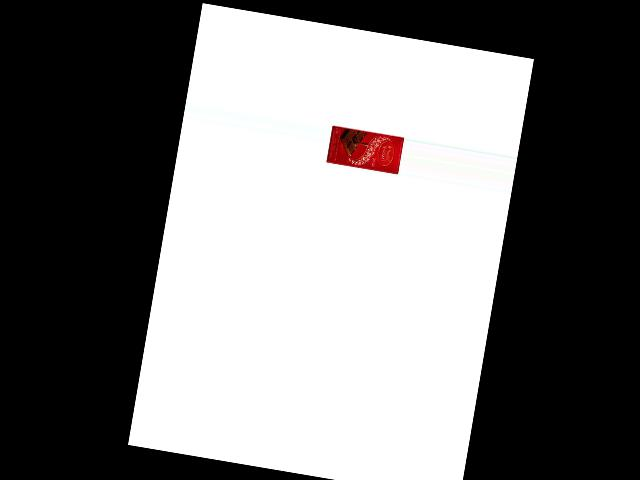chocolate: (326, 121, 404, 175)
